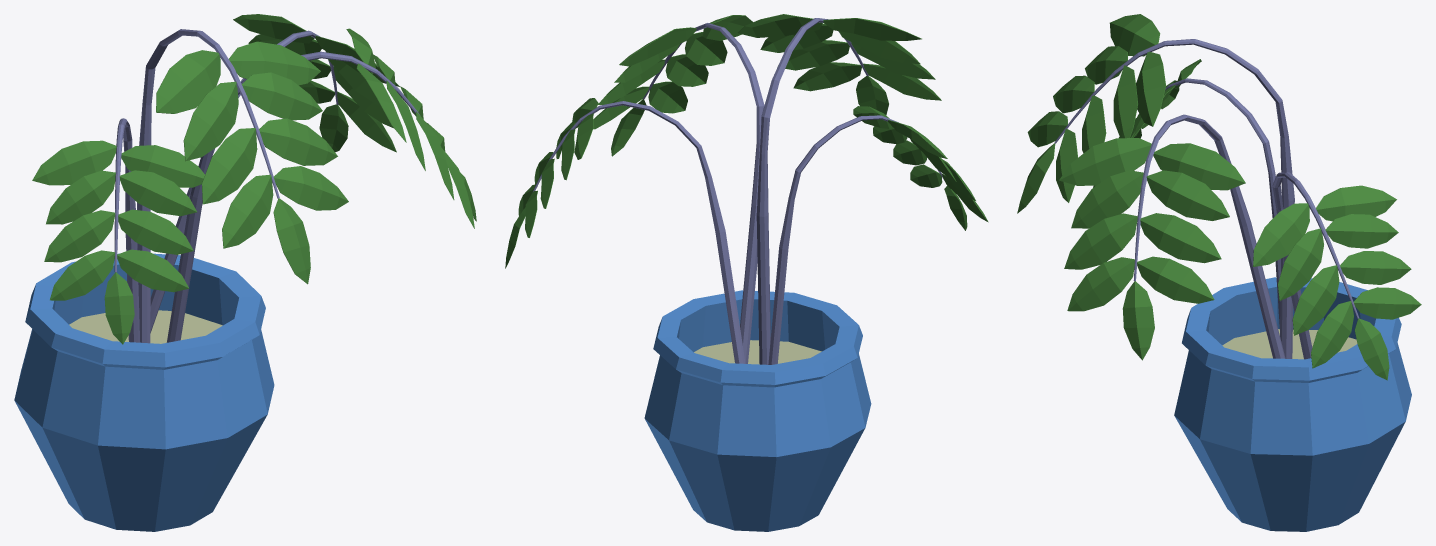
Rendered from Bedroom_2_Plant.fbx.
3 renders of one model, left to right at view 1: azimuth 30°, elevation 25°; view 2: azimuth 150°, elevation 25°; view 3: azimuth 270°, elevation 25°, orthographic. The views are drawn at different scales.
Visible parts, largest first — view 1: Bedroom_2_Plant; view 2: Bedroom_2_Plant; view 3: Bedroom_2_Plant.
Part boxes in pixels (left/top/right/bottom): Bedroom_2_Plant: left=14, top=14, right=476, bottom=531; Bedroom_2_Plant: left=505, top=14, right=988, bottom=531; Bedroom_2_Plant: left=1017, top=14, right=1421, bottom=531.
Bounding box in the file's own units: 68.02 × 75.13 × 58.85.
